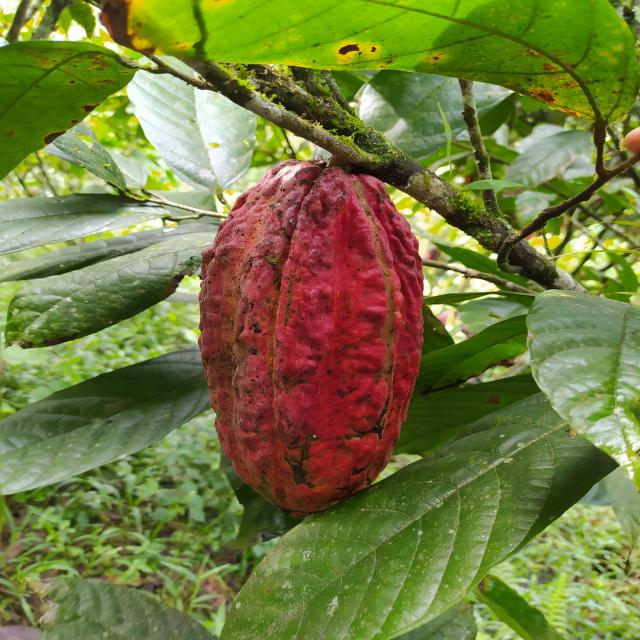Sana: (197, 157, 423, 512)
